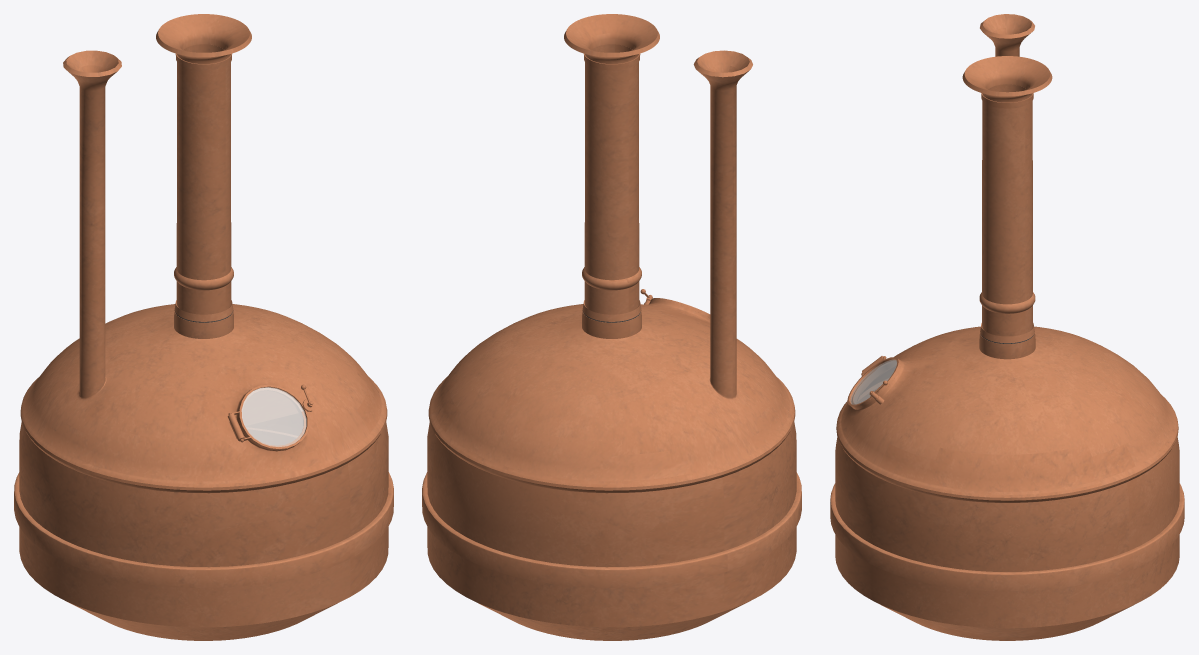
Rendered from Brew_Tank_Fill.fbx.
3 renders of one model, left to right at view 1: azimuth 30°, elevation 25°; view 2: azimuth 150°, elevation 25°; view 3: azimuth 270°, elevation 25°, orthographic. The views are drawn at different scales.
Parts seen in each view (by area): view 1: 01_BrewTank_Maischen, 01_BrewTank_Maischen_Front, 01_BrewTank_Maischen_Hole; view 2: 01_BrewTank_Maischen, 01_BrewTank_Maischen_Front; view 3: 01_BrewTank_Maischen, 01_BrewTank_Maischen_Front.
Boxes of the visible parts, left/top/right/bottom form: 01_BrewTank_Maischen: left=14, top=14, right=393, bottom=640; 01_BrewTank_Maischen_Front: left=88, top=349, right=382, bottom=482; 01_BrewTank_Maischen_Hole: left=81, top=206, right=105, bottom=312; 01_BrewTank_Maischen: left=422, top=14, right=801, bottom=640; 01_BrewTank_Maischen_Front: left=556, top=289, right=790, bottom=420; 01_BrewTank_Maischen: left=830, top=14, right=1184, bottom=640; 01_BrewTank_Maischen_Front: left=840, top=331, right=951, bottom=488.
Bounding box in the file's own units: 329 × 529 × 329.
